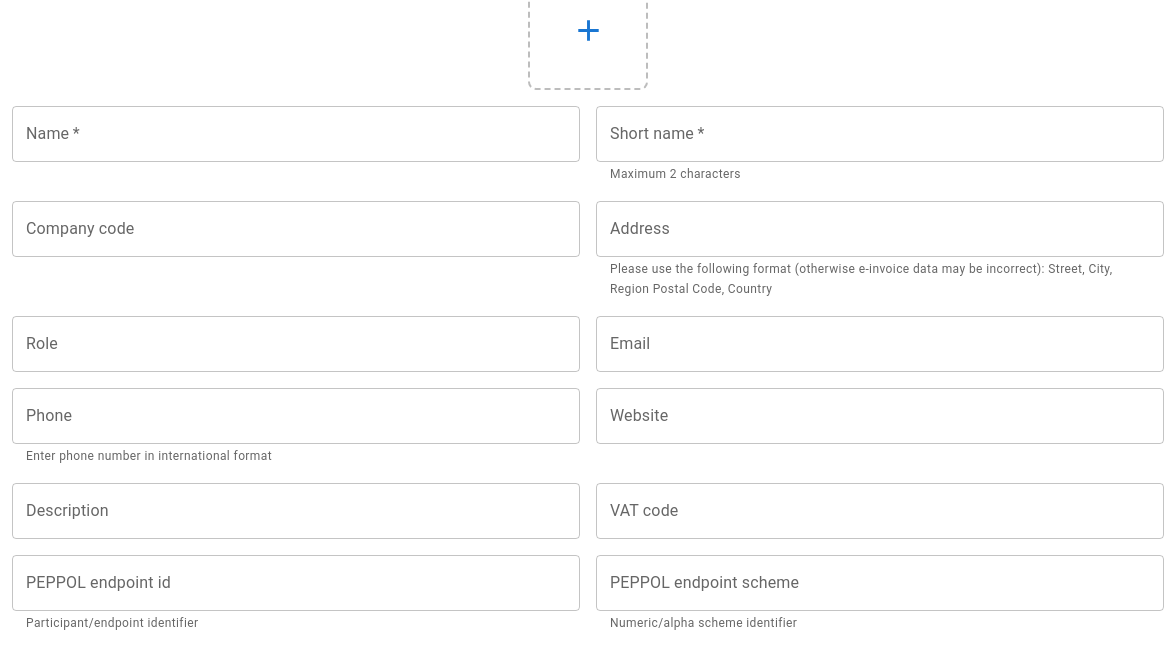
Test: businesses Form › shows validation errors for invalid phone, countryCode and PEPPOL fields
Type "Acme Corp" into the field labelled "Name" at (296, 134), box [12,106,580,162]
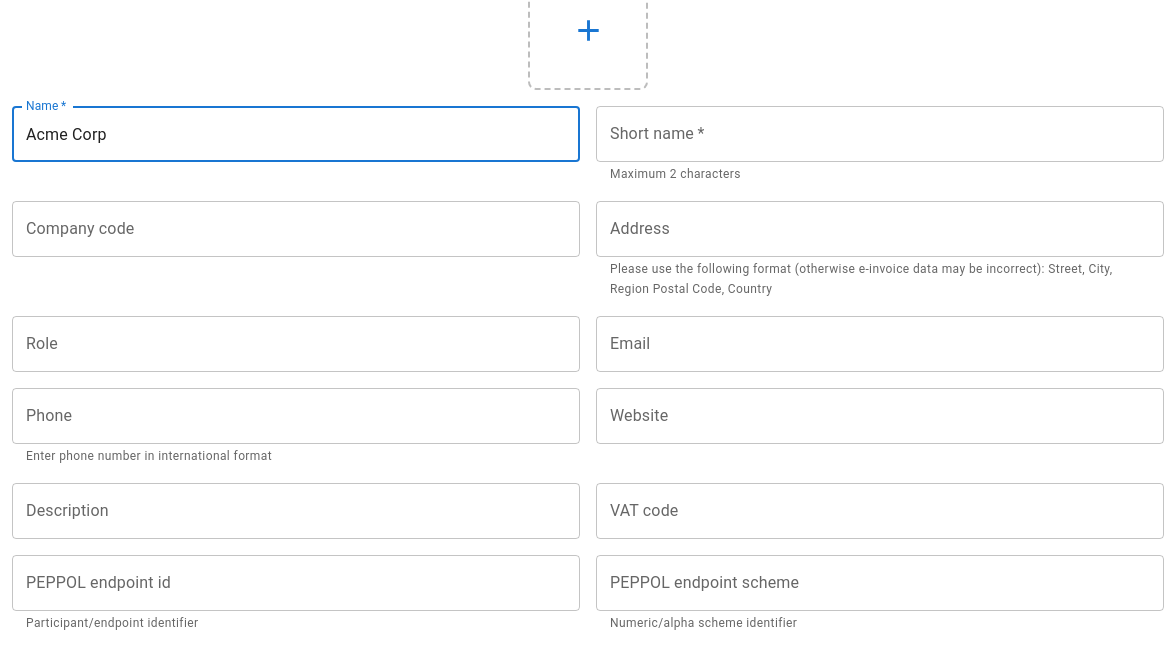
Type "AC" into the field labelled "Short name" at (880, 134), box [596,106,1164,162]
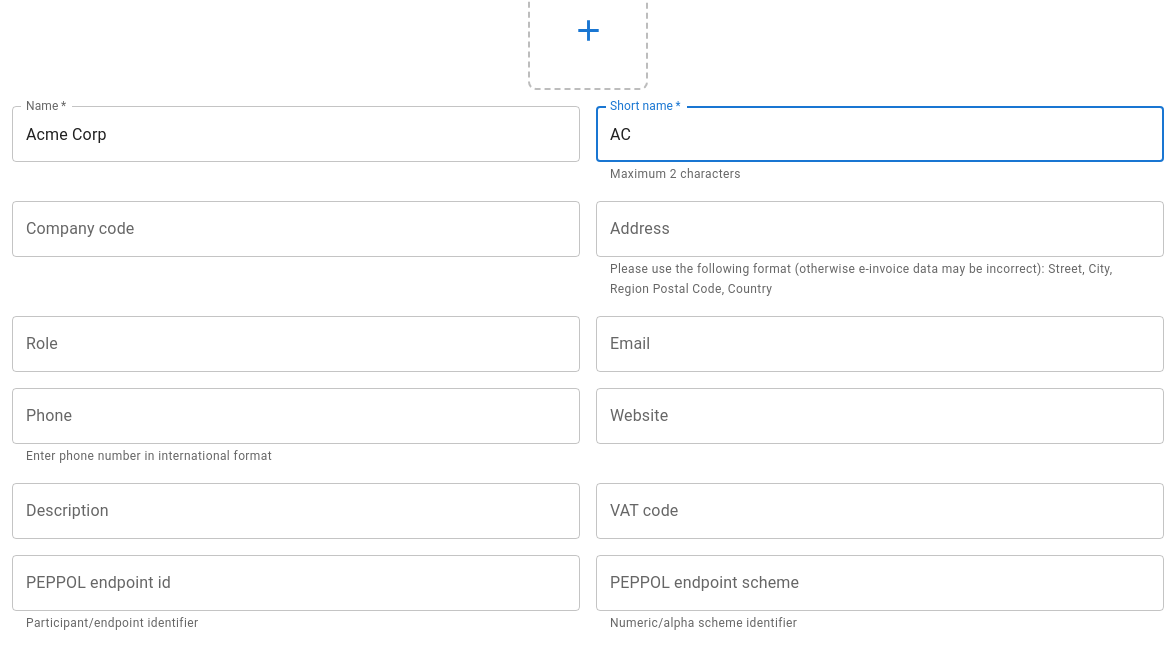
Type "not-a-phone" into the field labelled "Phone" at (296, 416), box [12,388,580,444]
(page scrolled)
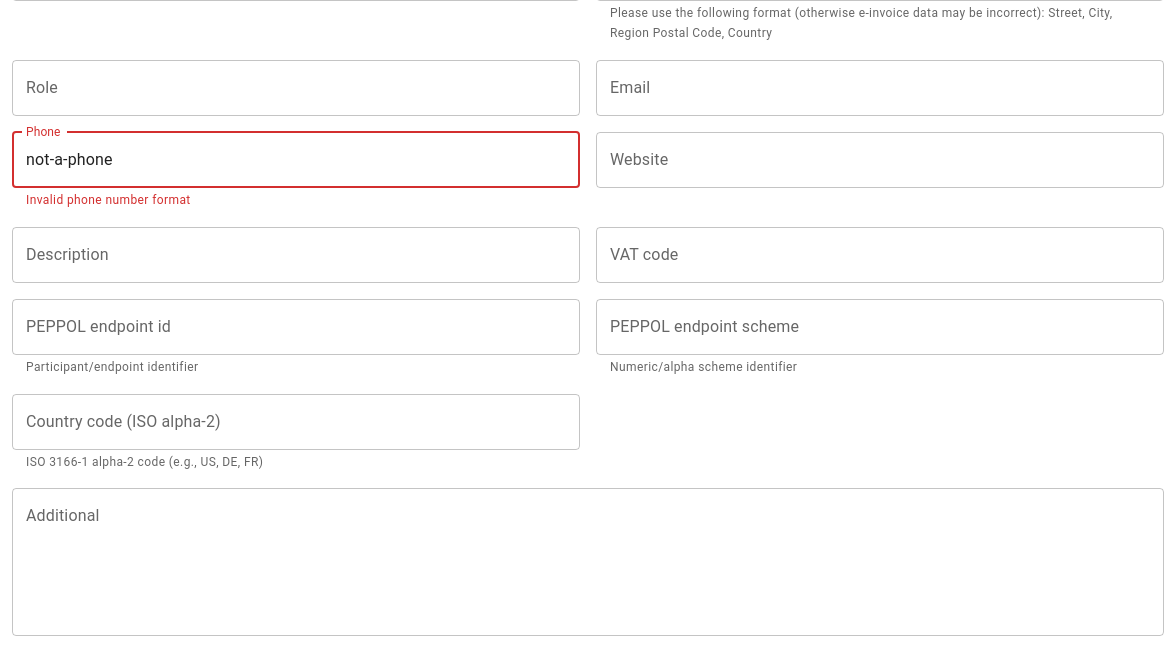
Now the text "Invalid phone number format" is shown, box [26,193,191,207]
Type "123" into the field labelled "Country code (ISO alpha-2)" at (296, 422), box [12,394,580,450]
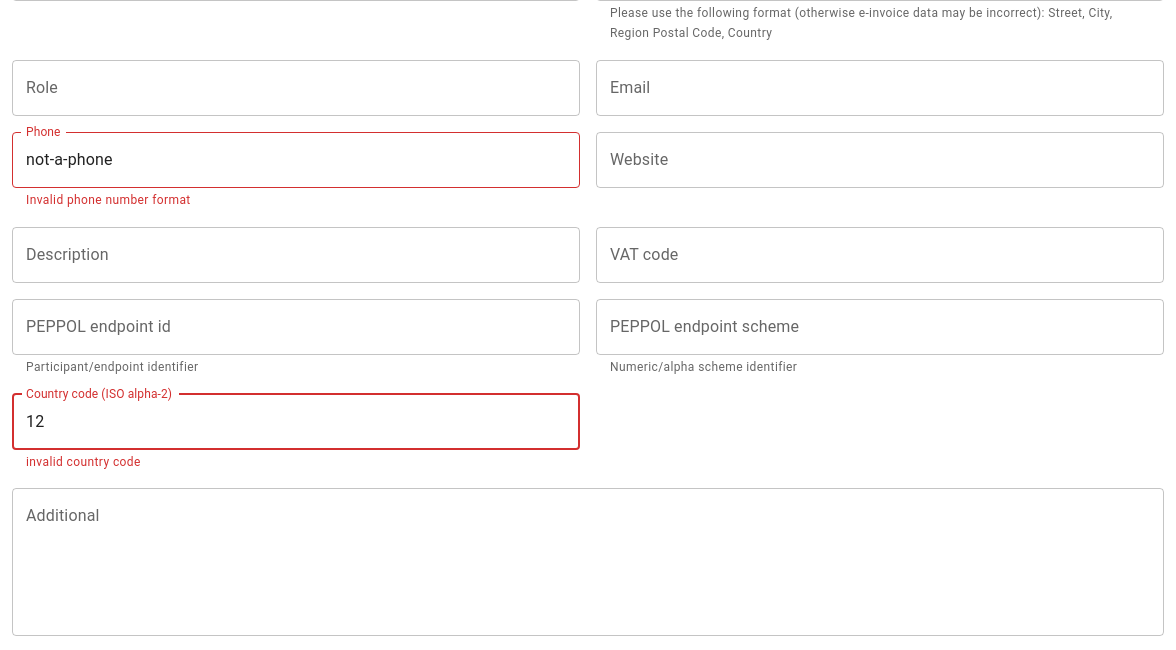
Now the text "invalid country code" is shown, box [26,454,141,468]
Type "!!" into the field labelled "PEPPOL endpoint id" at (296, 327), box [12,299,580,355]
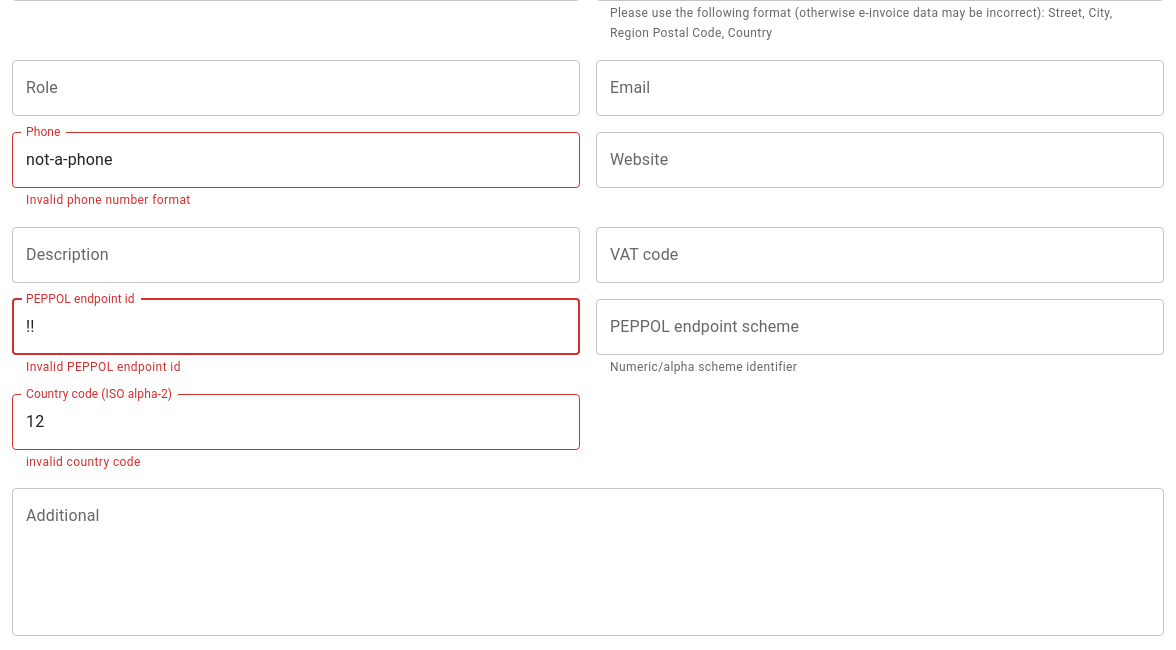
Now the text "Invalid PEPPOL endpoint id" is shown, box [26,360,181,374]
Type "!!" into the field labelled "PEPPOL endpoint scheme" at (880, 327), box [596,299,1164,355]
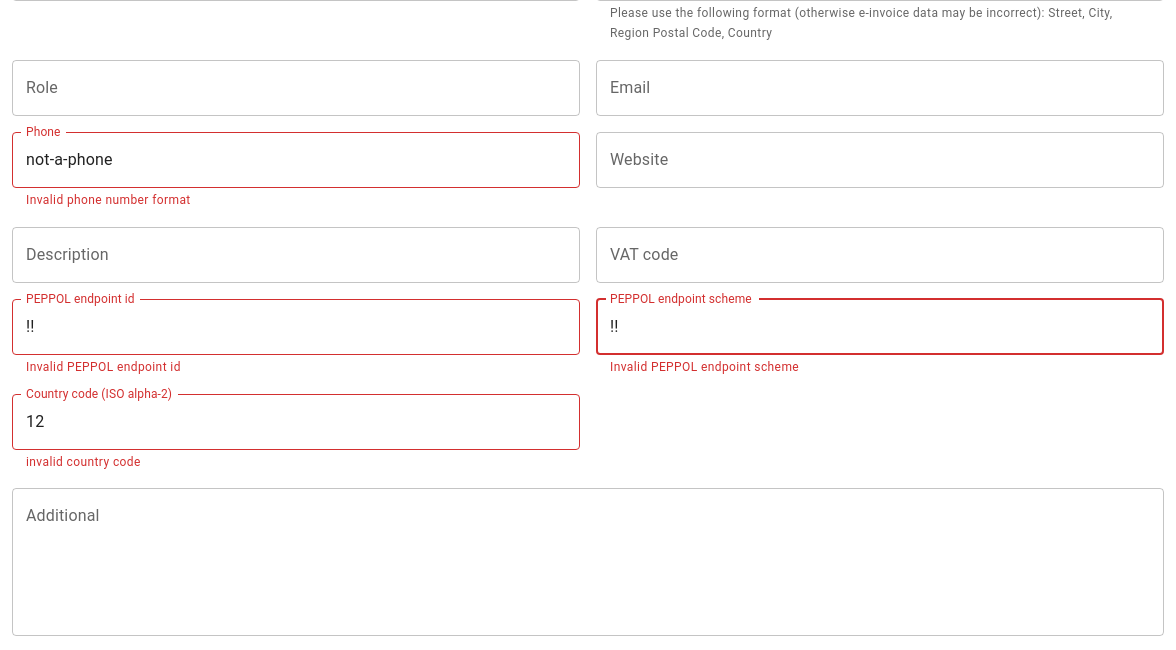
Now the text "Invalid PEPPOL endpoint scheme" is shown, box [610,360,799,374]
